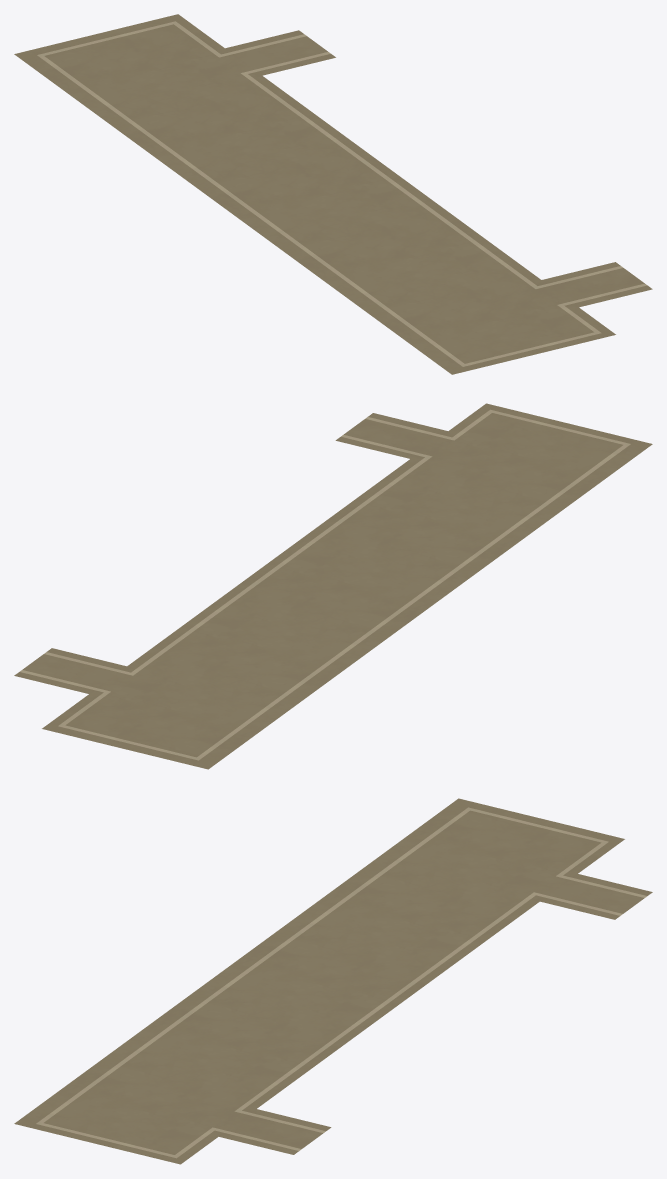
Rendered from Corridor-detach.fbx.
3 renders of one model, top to bottom at view 1: azimuth 30°, elevation 25°; view 2: azimuth 150°, elevation 25°; view 3: azimuth 330°, elevation 25°, orthographic.
Parts seen in each view (by area): view 1: Corridor-detach; view 2: Corridor-detach; view 3: Corridor-detach.
Part boxes in pixels (x1,y1,x2,y2): Corridor-detach: (14, 14, 652, 374); Corridor-detach: (14, 403, 652, 769); Corridor-detach: (14, 798, 652, 1164).
Size of the model in its own units: 2575 by 0.000358 by 8200.
